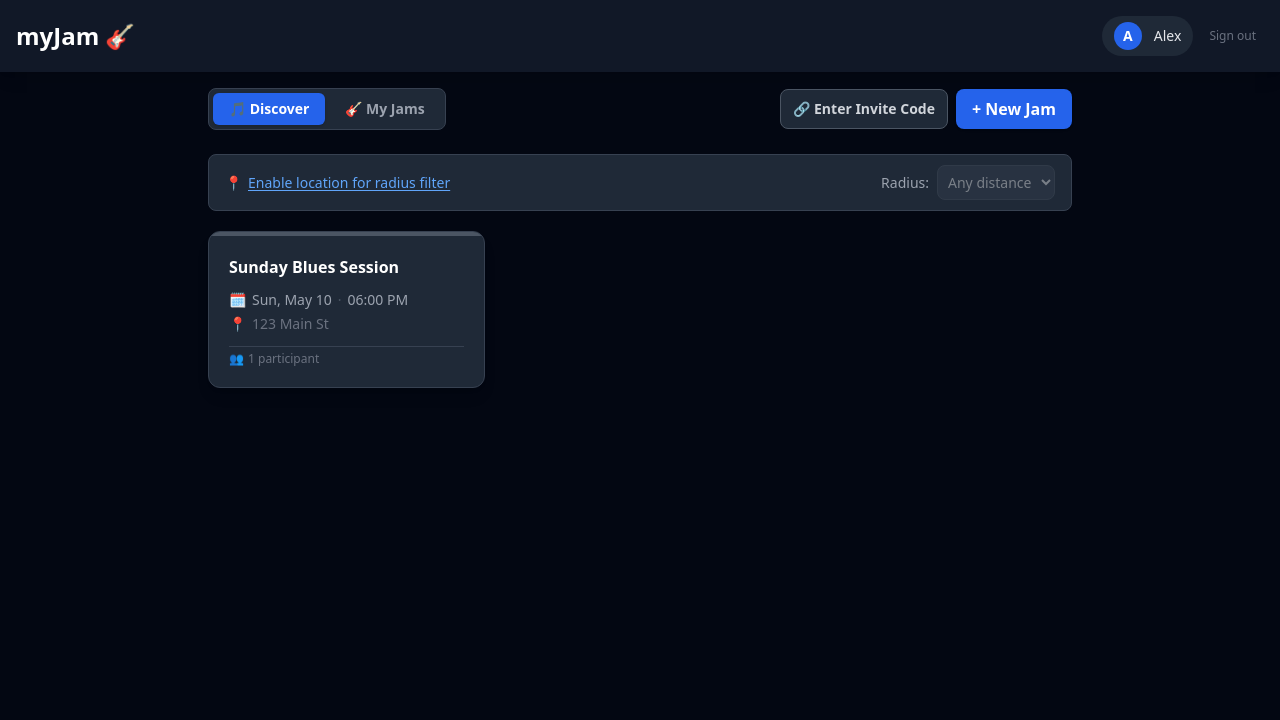
it: App interactions › does not open SSE for a logged-in user who is only viewing a public jam
Click the heading "Sunday Blues Session". click: (314, 267)
box: [229,256,399,278]
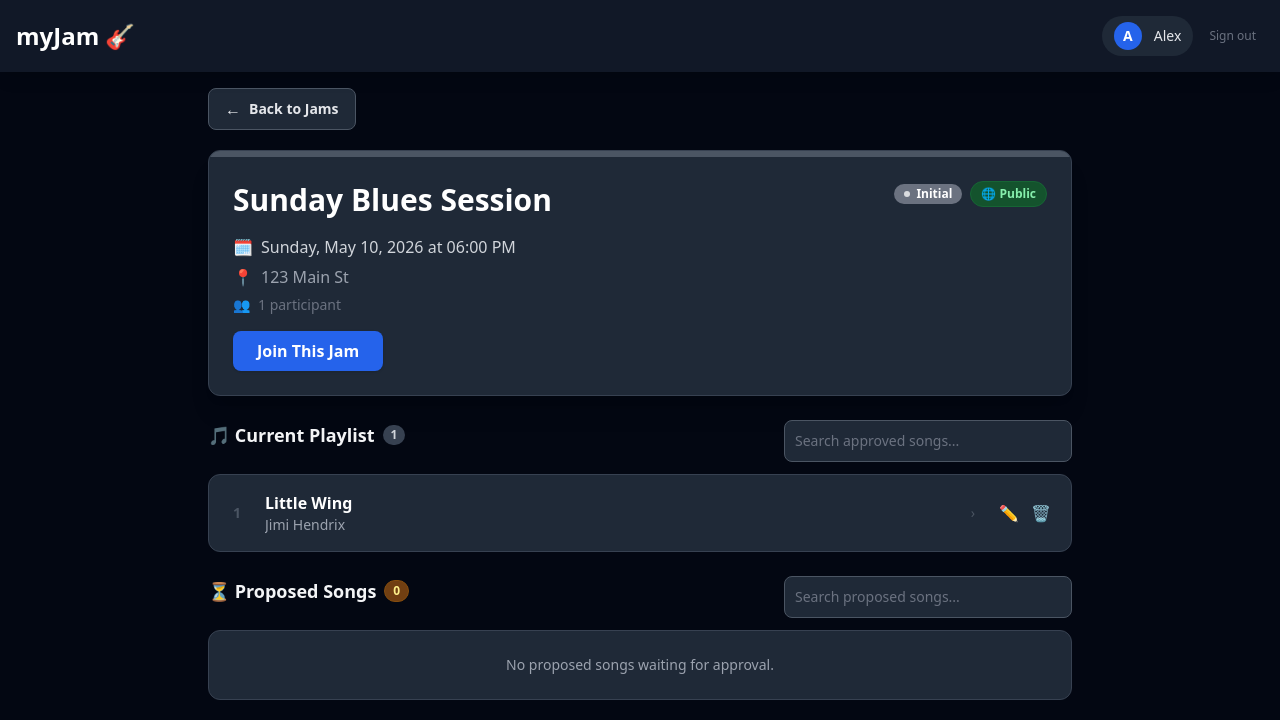
Expected: the button "Join This Jam" is shown, [233,330,383,370]
